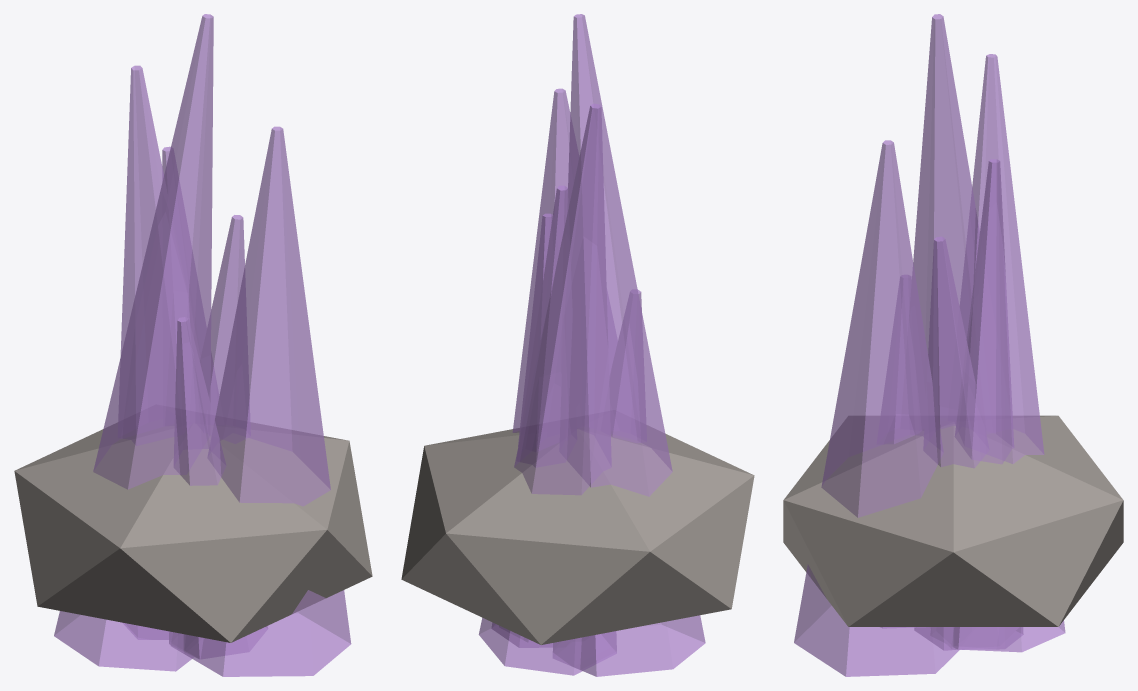
Rendered from variant_crystal_violet.glb.
3 renders of one model, left to right at view 1: azimuth 30°, elevation 25°; view 2: azimuth 150°, elevation 25°; view 3: azimuth 270°, elevation 25°, orthographic.
Parts seen in each view (by area): view 1: Crystal; view 2: Crystal; view 3: Crystal.
Boxes of the visible parts, x1,y1,x2,y2 form: Crystal: (14, 14, 372, 676); Crystal: (401, 14, 754, 676); Crystal: (783, 14, 1123, 676).
Bounding box in the file's own units: 0.6261 × 1.2 × 0.5954.
